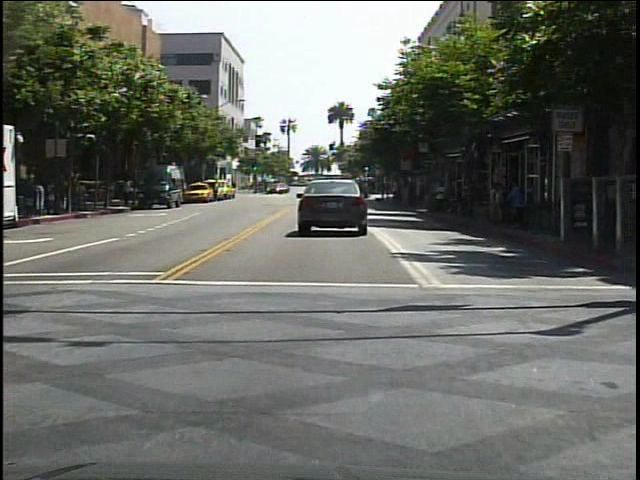person: (431, 178, 451, 219)
